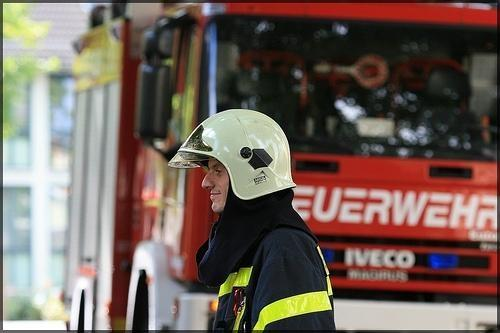truck: (65, 3, 499, 332)
